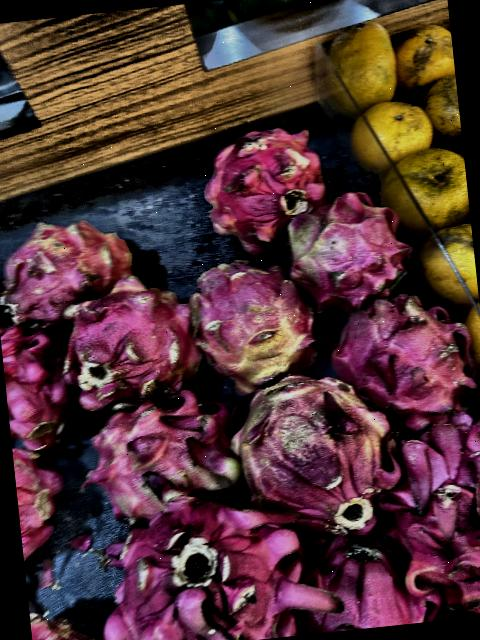buah-naga-belum-matang: (231, 352, 397, 532), (82, 382, 240, 516), (55, 275, 200, 407), (190, 248, 316, 382), (0, 211, 135, 314), (286, 194, 407, 303)
buah-naga-matang: (97, 485, 320, 640), (324, 277, 480, 428), (370, 414, 480, 608), (304, 523, 447, 633), (2, 318, 77, 452), (14, 451, 68, 552)
